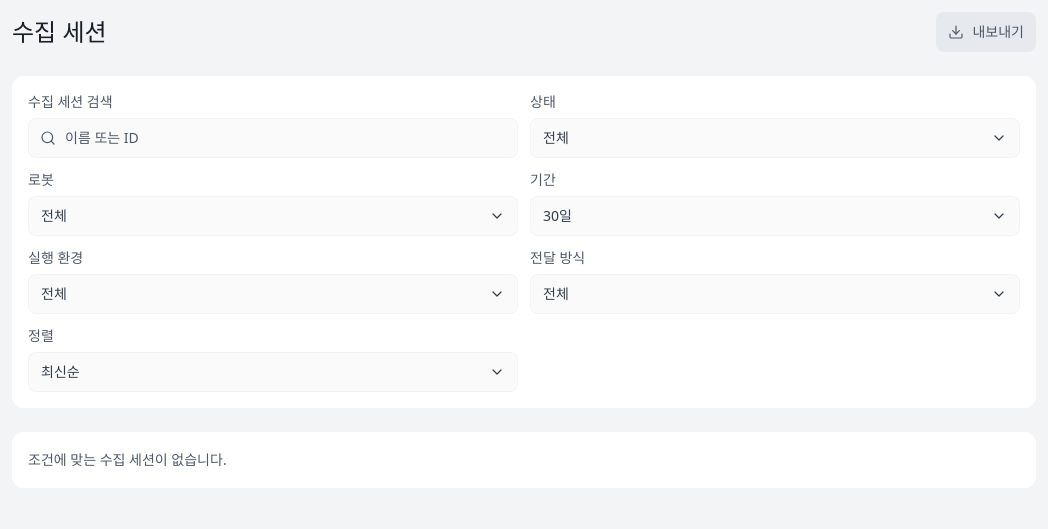
SessionsPage › all 검색 문자열을 URL과 수집 세션 조회에 보존한다
This screenshot has width=1048, height=529.
Type "all" into the search field labelled "수집 세션 검색" at (273, 138), box x1=28 y1=118 x2=518 y2=158
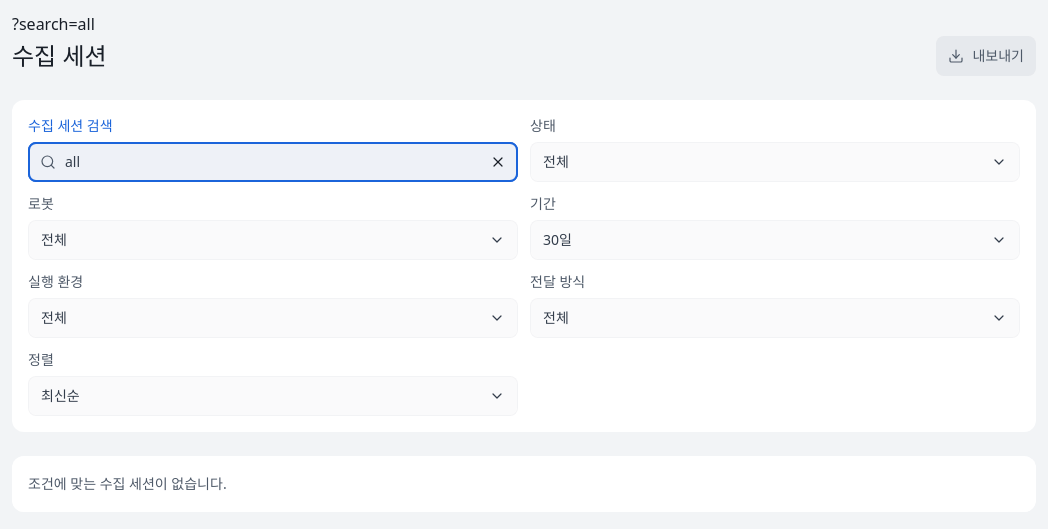
Result: the text with test id "location-search" reads "?search=all" at x1=12 y1=13 x2=95 y2=35
